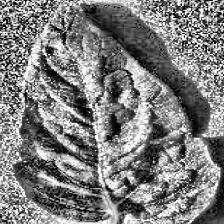spider mites: (15, 5, 221, 224)
